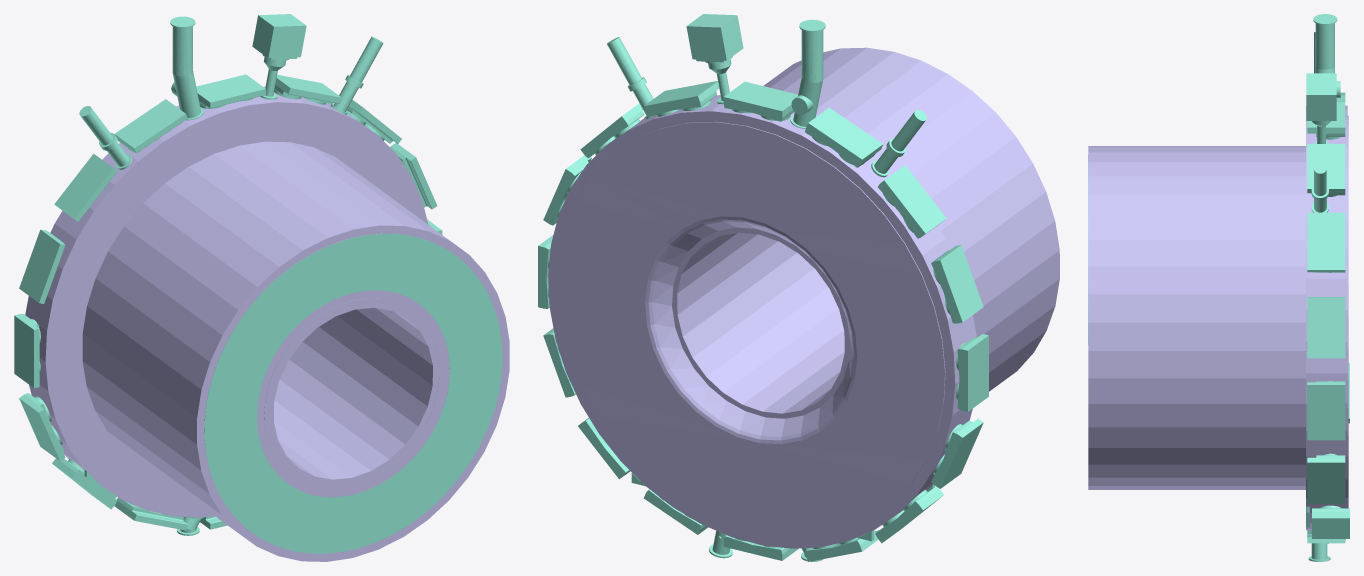
Rendered from Lar-Barrel-cut1.glb.
3 renders of one model, left to right at view 1: azimuth 30°, elevation 25°; view 2: azimuth 150°, elevation 25°; view 3: azimuth 270°, elevation 25°, orthographic. The views are drawn at different scales.
Visible parts, largest first — view 1: null; view 2: null; view 3: null.
Part boxes in pixels (box(x1,y1,x2,y2)): null: box(14, 14, 509, 561); null: box(538, 14, 1059, 561); null: box(1088, 14, 1349, 561).
Size of the model in its own units: 5.86 by 7.22 by 3.42.
